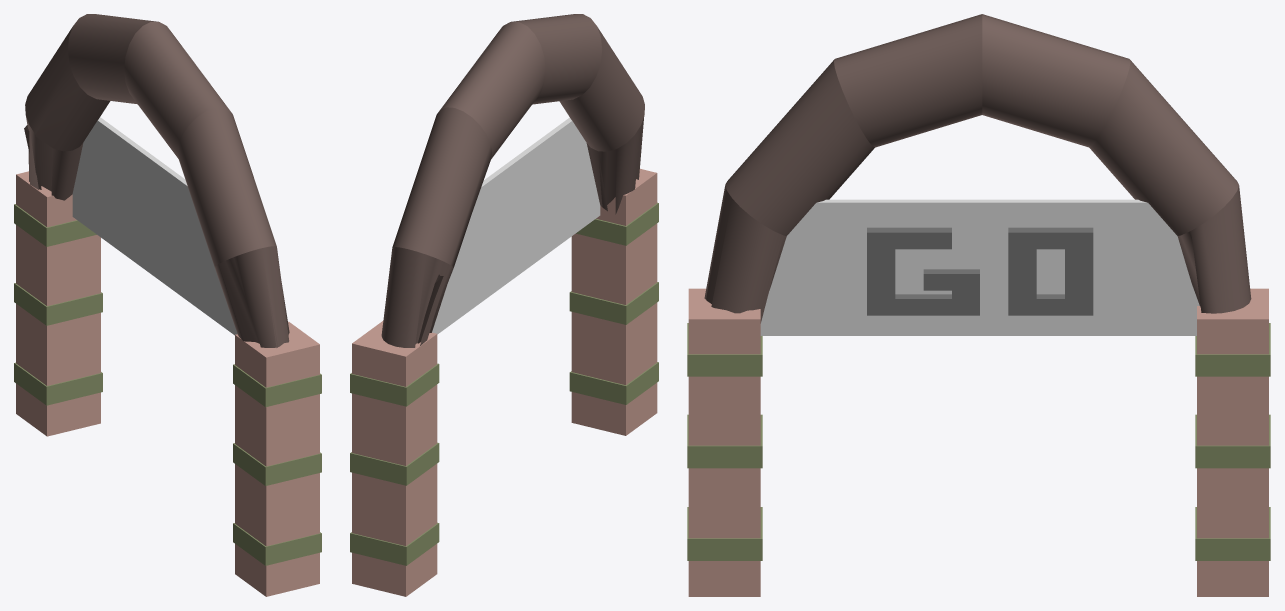
The model's file is snow_start_sign.fbx.
3 renders of one model, left to right at view 1: azimuth 30°, elevation 25°; view 2: azimuth 150°, elevation 25°; view 3: azimuth 270°, elevation 25°, orthographic. The views are drawn at different scales.
Visible parts, largest first — view 1: pTorus1, pCube2, pCube3, pCube1, pCube4, pCube5, pCube9, pCube8, pCube7, pCube6; view 2: pTorus1, pCube1, pCube3, pCube2, pCube7, pCube8, pCube5, pCube6, pCube4, pCube9; view 3: pTorus1, pCube3, pCube2, pCube1, pCube8, pCube5, pCube7, pCube4, pCube9, pCube6.
Part boxes in pixels (x1,y1,x2,y2): pTorus1: (24,14,289,347); pCube2: (235,321,319,596); pCube3: (72,117,237,335); pCube1: (16,171,100,436); pCube4: (14,362,102,405); pCube5: (14,283,102,325); pCube9: (233,364,321,407); pCube8: (233,443,321,485); pCube7: (233,523,321,565); pCube6: (14,204,96,246); pTorus1: (381,14,644,347); pCube1: (352,321,437,596); pCube3: (432,117,600,334); pCube2: (571,168,657,435); pCube7: (569,362,658,404); pCube8: (569,282,658,324); pCube5: (350,442,439,485); pCube6: (350,363,439,406); pCube4: (350,522,439,565); pCube9: (576,202,658,245); pTorus1: (704,14,1251,323); pCube3: (760,199,1199,335); pCube2: (688,288,760,596); pCube1: (1197,288,1268,596); pCube8: (687,414,762,468); pCube5: (1195,414,1270,468); pCube7: (687,507,762,560); pCube4: (1195,507,1270,560); pCube9: (687,323,762,376); pCube6: (1195,323,1270,376).
Size of the model in its own units: 1.31 by 8.5 by 8.07.
